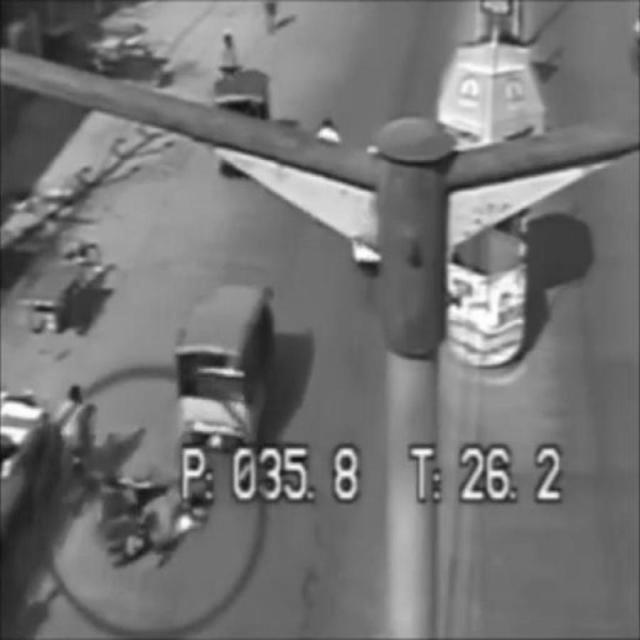vehicle: (171, 275, 277, 455), (98, 458, 220, 566), (54, 381, 98, 509)
